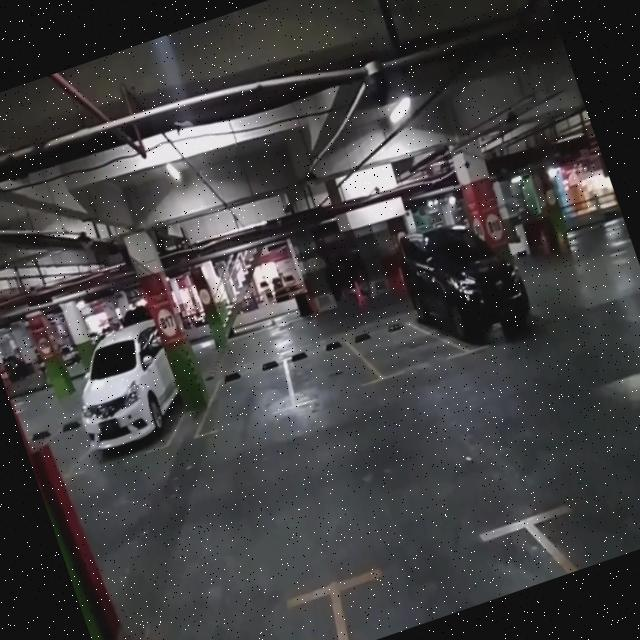empty: (184, 344, 301, 450), (353, 302, 458, 396), (278, 334, 376, 416)
occupied: (57, 334, 195, 476), (419, 246, 542, 365)
